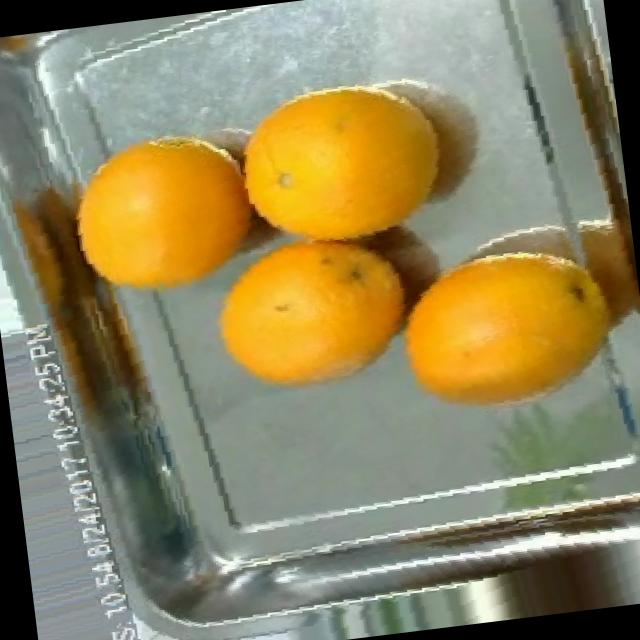Fruit: (45, 108, 282, 319)
